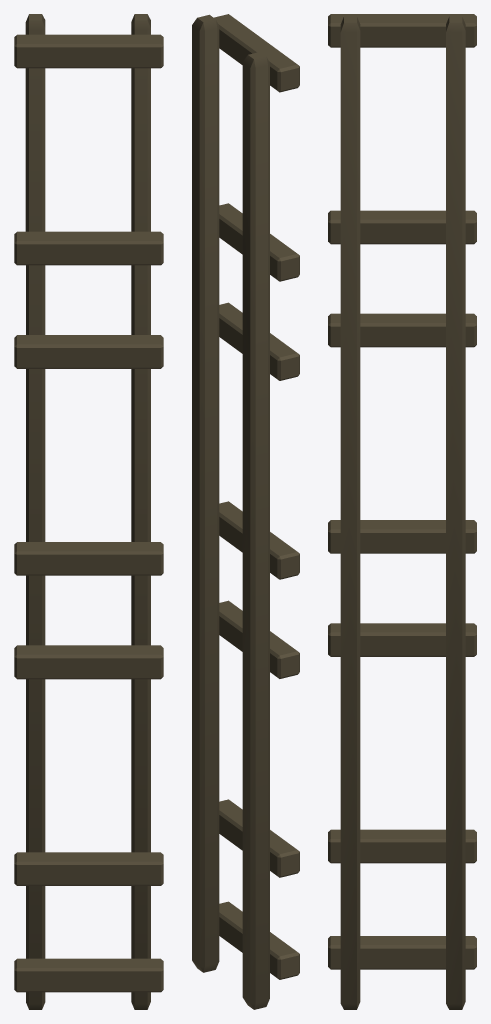
File: escalera_03.fbx
3 views of the same model, side by side, from view 1: azimuth 90°, elevation 25°; view 2: azimuth 210°, elevation 25°; view 3: azimuth 270°, elevation 25° (orthographic). The views are drawn at different scales.
Visible parts, largest first — view 1: escalera_03; view 2: escalera_03; view 3: escalera_03.
Part boxes in pixels (x1,y1,x2,y2): escalera_03: [14, 14, 163, 1009]; escalera_03: [192, 14, 299, 1009]; escalera_03: [328, 14, 476, 1009].
Bounding box in the file's own units: 23.56 × 490 × 66.88.
